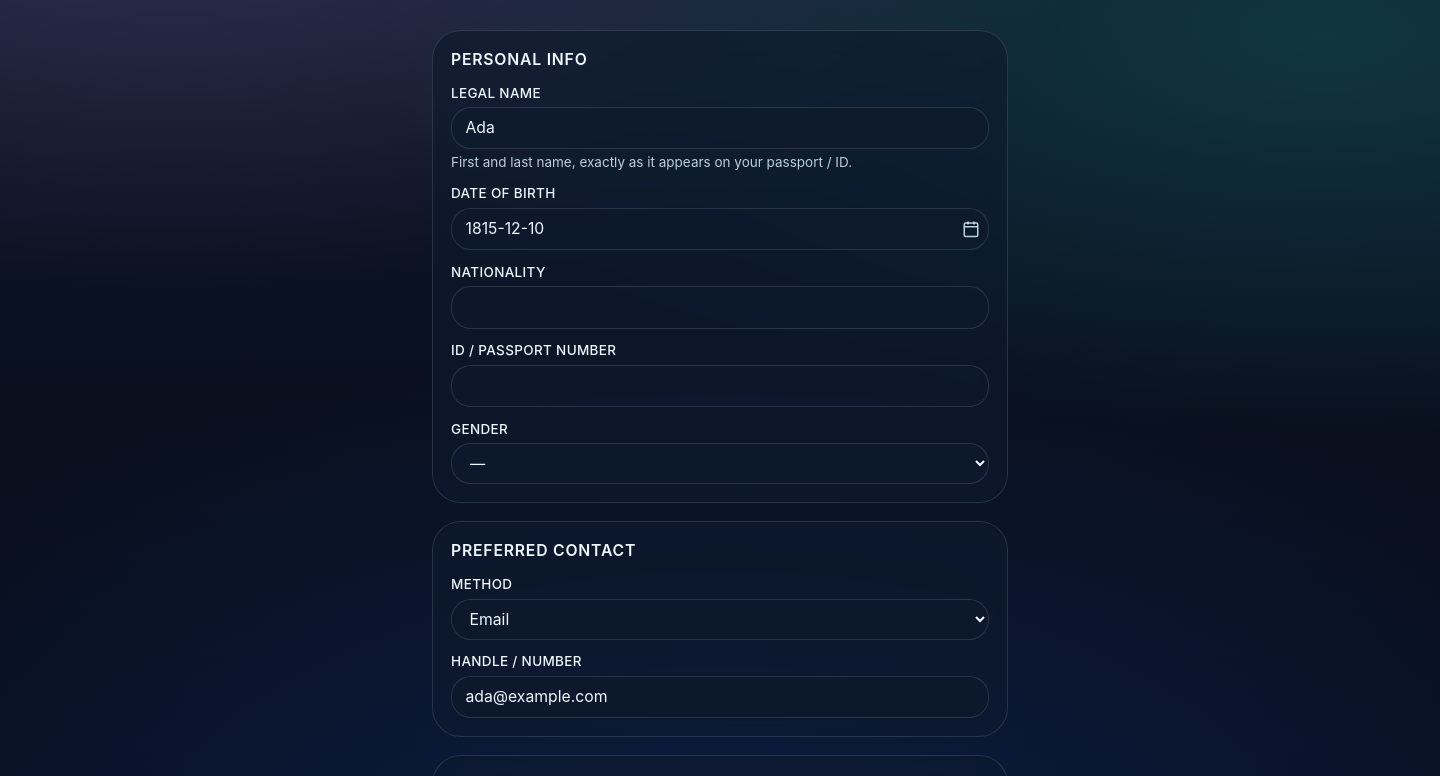
Scenario: ProfilePage › reminds about a missing cert card without blocking Save
Type "x" into the field below "ID / Passport number" at (720, 386), box [451,365,989,407]
(page scrolled)
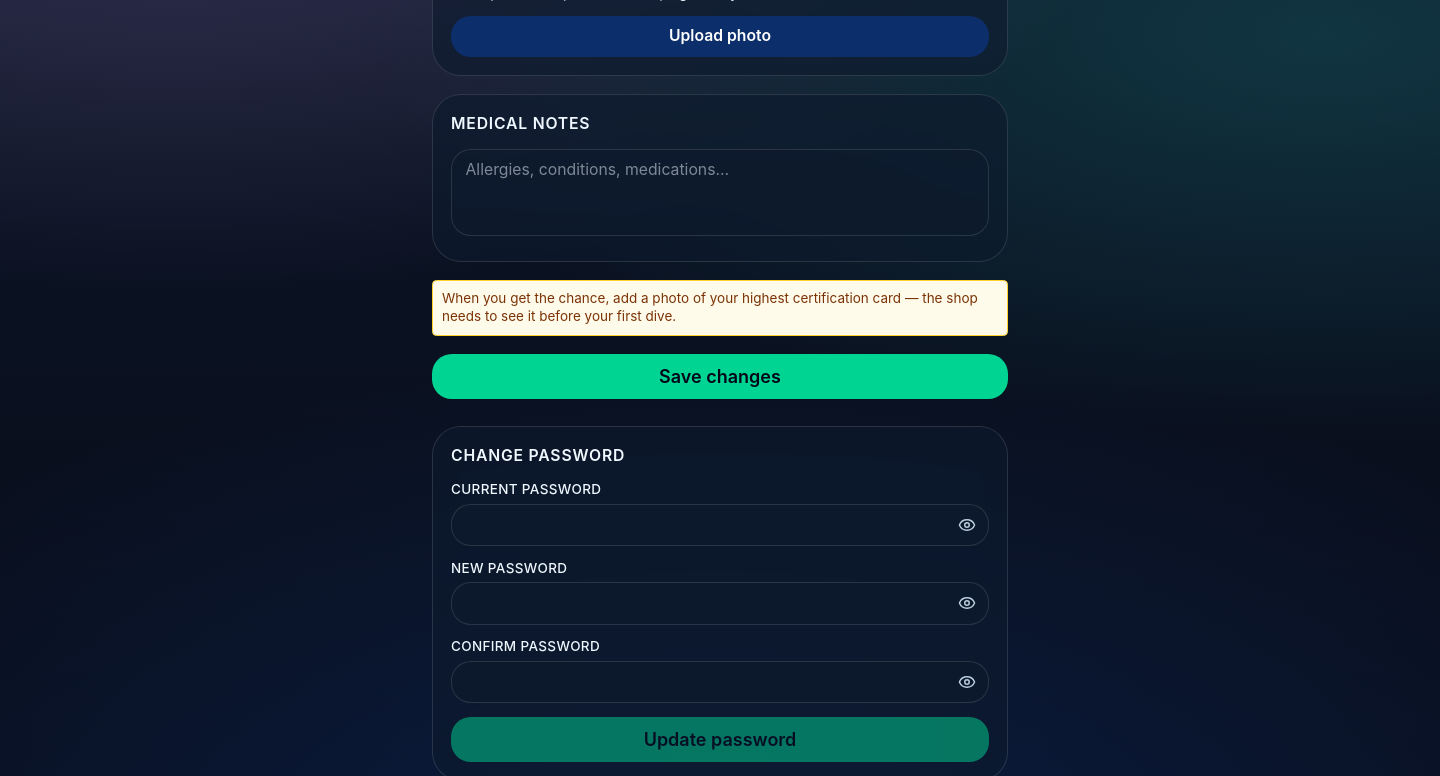
Expected: the button "Save changes" is enabled, [432,354,1008,399]
